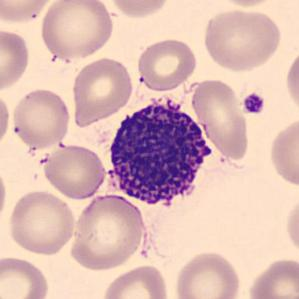Basophil: (101, 90, 221, 216)
Platelets: (240, 91, 266, 116)
RBC: (67, 192, 149, 272), (200, 6, 284, 73), (189, 76, 250, 162), (69, 54, 135, 127), (6, 188, 76, 256), (38, 0, 116, 61), (9, 86, 72, 150), (41, 142, 107, 201), (134, 36, 200, 92), (171, 248, 242, 299), (99, 262, 171, 299), (266, 114, 299, 189), (0, 253, 51, 299), (245, 255, 298, 299), (0, 27, 32, 94), (0, 0, 59, 25), (107, 0, 171, 20), (283, 46, 299, 116), (283, 194, 299, 259), (0, 91, 12, 151), (0, 163, 9, 226), (212, 0, 280, 8)
